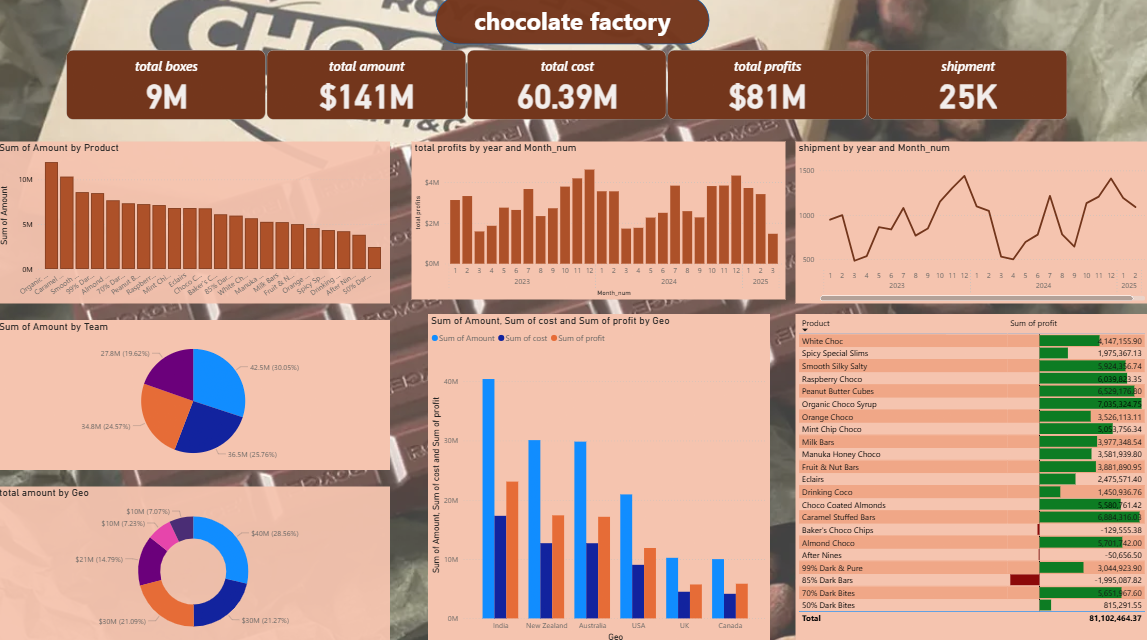

Layout of this report page (visuals, bound fields, positions):
{"tool":"powerbi","page":{"name":"Page 7","canvas":[1920,1080],"ordinal":6},"visuals":[{"type":"columnChart","fields":{"Category":["products.Product"],"Y":["Sum(shipments.Amount)"]},"box":[0,243.3,656.7,270],"z":0},{"type":"cardVisual","fields":{"Data":["shipments.total boxes","shipments.total amount","shipments.total cost","shipments.total profits","shipments.shipment"]},"box":[0,80,1894,136],"z":1000},{"type":"shape","box":[732.6,0,456.5,80.4],"z":2000},{"type":"pieChart","fields":{"Y":["Sum(shipments.Amount)"],"Category":["people.Team"]},"box":[0,540,656.7,250],"z":2001},{"type":"donutChart","fields":{"Category":["locations.Geo"],"Y":["shipments.total amount"]},"box":[0,816.7,656.7,263.3],"z":2002},{"type":"columnChart","fields":{"Category":["calendar.year","calendar.Month_num"],"Y":["shipments.total profits"]},"box":[693.3,243.3,623.3,263.3],"z":2003},{"type":"clusteredColumnChart","fields":{"Y":["Sum(shipments.Amount)","Sum(shipments.cost)","Sum(shipments.profit)"],"Category":["locations.Geo"]},"box":[720,530,570,550],"z":2004},{"type":"tableEx","fields":{"Values":["products.Product","Sum(shipments.profit)"]},"box":[1333.3,529.2,587.5,550],"z":2005},{"type":"lineChart","fields":{"Y":["shipments.shipment"],"Category":["calendar.year","calendar.Month_num"]},"box":[1332.5,242.5,587.5,270],"z":2006}]}

Visuals, with their boxes in screenshot pixels (x1, y1, x2, y2), scaled from the page's 1920x1080 canvas onto the 1147x640 screenshot:
columnChart - products.Product x Sum(shipments.Amount): 0 144 392 304
cardVisual - shipments.total boxes x shipments.total amount: 0 47 1131 128
shape: 438 0 710 48
pieChart - Sum(shipments.Amount) x people.Team: 0 320 392 468
donutChart - locations.Geo x shipments.total amount: 0 484 392 639
columnChart - calendar.year x calendar.Month_num: 414 144 787 300
clusteredColumnChart - Sum(shipments.Amount) x Sum(shipments.cost): 430 314 771 639
tableEx - products.Product x Sum(shipments.profit): 797 314 1146 639
lineChart - shipments.shipment x calendar.year: 796 144 1146 304
